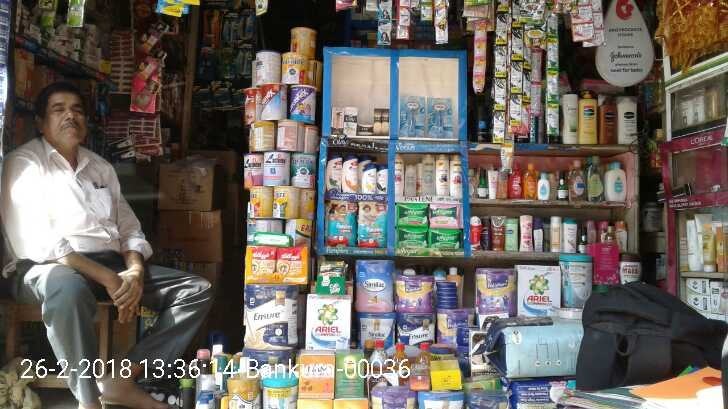venus: (425, 97, 450, 138), (400, 97, 425, 138)
